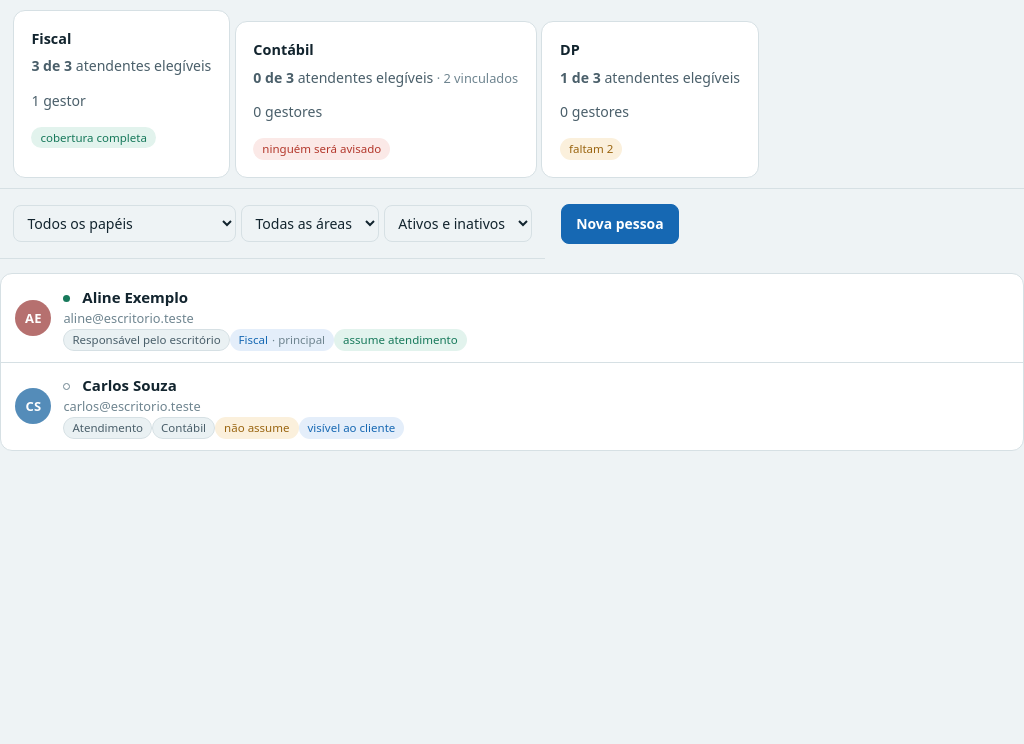
Test: formulário › abre vazio, com o aviso sobre o login do FISCALE
Expected: the text "Aline Exemplo" is shown, [63,287,188,307]
Click the button "Nova pessoa": click(620, 224) [561,204,679,244]
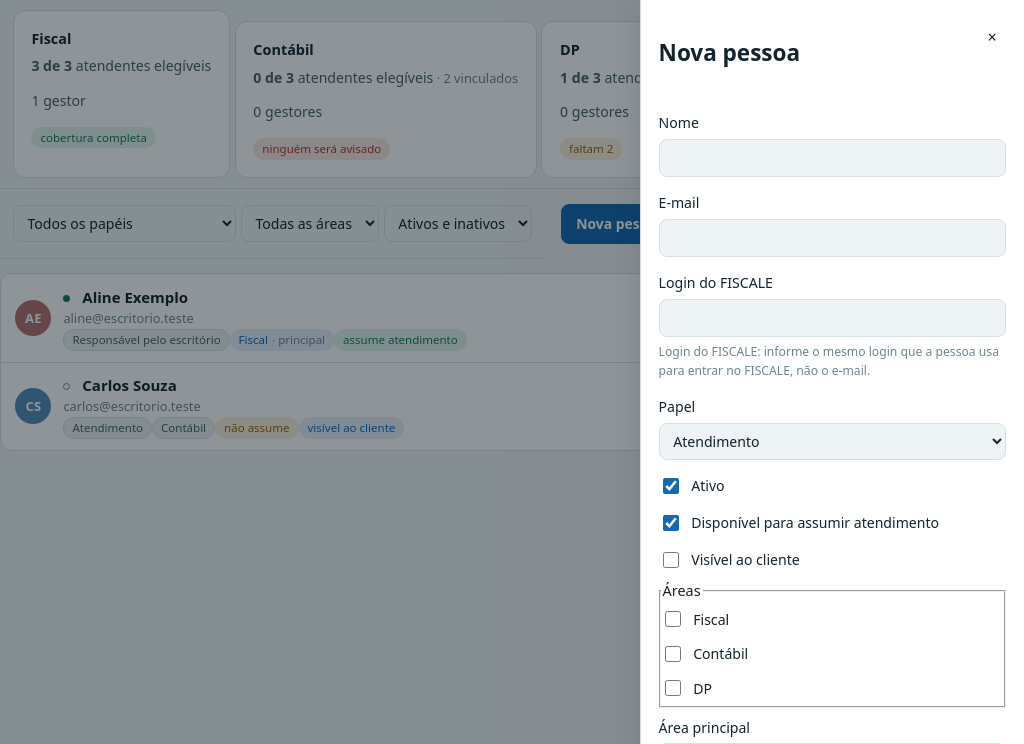
Expected: the field labelled "Nome" is empty, [659,139,1006,177]
Expected: the text "o mesmo login que a pessoa usa para entrar no FISCALE, não o" is shown, [659,343,999,379]
